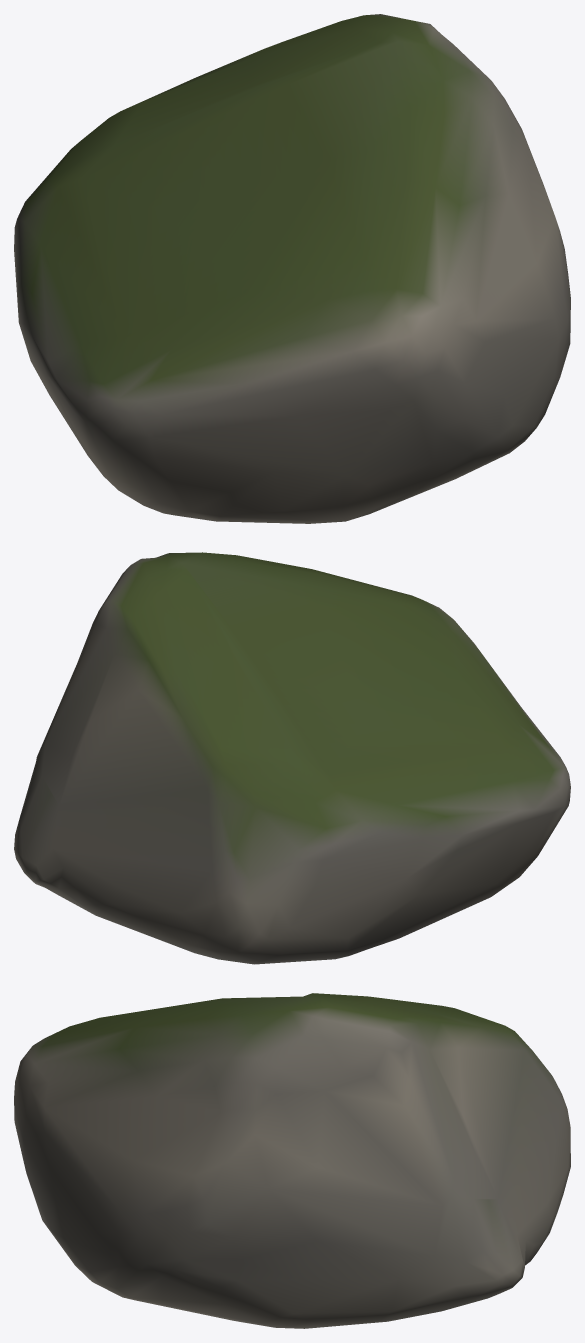
Rendered from rock.boulder_round.moss.glb.
3 renders of one model, top to bottom at view 1: azimuth 30°, elevation 25°; view 2: azimuth 150°, elevation 25°; view 3: azimuth 270°, elevation 25°, orthographic. The views are drawn at different scales.
Parts seen in each view (by area): view 1: rock_boulder_round_moss; view 2: rock_boulder_round_moss; view 3: rock_boulder_round_moss.
Part boxes in pixels (bbox=[...]): rock_boulder_round_moss: bbox=[14, 14, 570, 523]; rock_boulder_round_moss: bbox=[14, 552, 570, 964]; rock_boulder_round_moss: bbox=[14, 993, 570, 1328].
Size of what is drawn, in the model's own units: 2.01 by 1.49 by 2.2.
